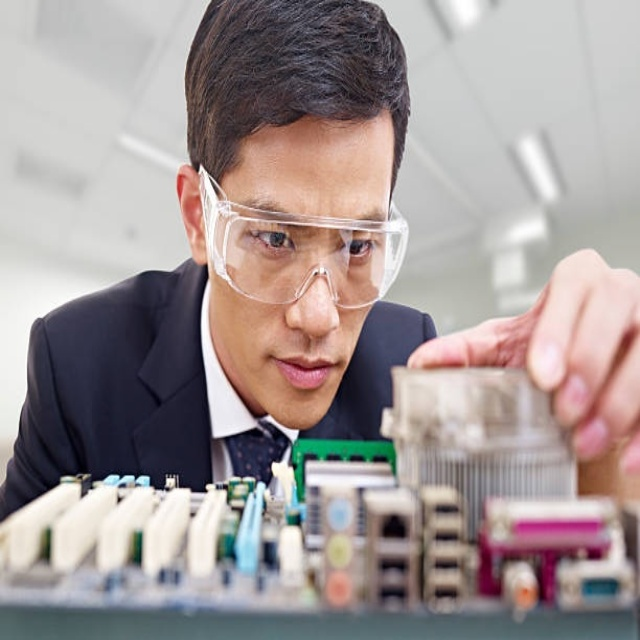Gafas: (198, 166, 410, 307)
Sin_guantes: (408, 247, 636, 474)
Sin_mascara: (252, 330, 342, 414)
